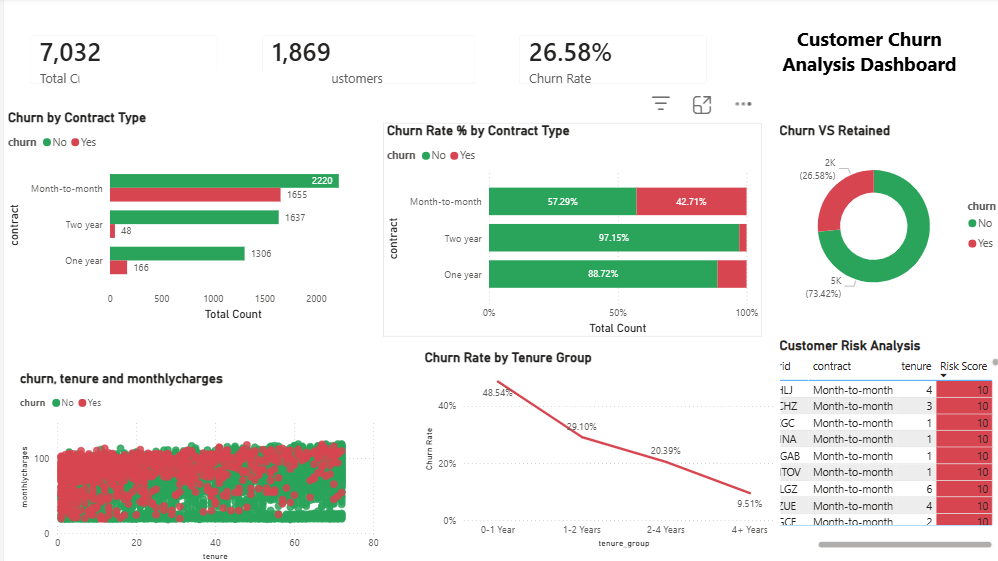

What the dashboard file says about the page in this screenshot:
{"tool":"powerbi","page":{"name":"Page 1","canvas":[1280,720],"ordinal":0},"visuals":[{"type":"cardVisual","fields":{"Data":["churn_clean.Total Customers"]},"box":[16,32,272,96],"z":0},{"type":"cardVisual","fields":{"Data":["churn_clean.Churned Customers"]},"box":[309.3,32,304,96],"z":1000},{"type":"cardVisual","fields":{"Data":["churn_clean.Churn Rate"]},"box":[634.7,32,272,96],"z":2000},{"type":"donutChart","title":"Churn VS Retained","fields":{"Category":["churn_clean.churn"],"Y":["churn_clean.Total Count"]},"box":[976,160,304,240],"z":3000},{"type":"clusteredBarChart","title":"Churn by Contract Type","fields":{"Category":["churn_clean.contract"],"Y":["churn_clean.Total Count"],"Series":["churn_clean.churn"]},"box":[0,144,464,272],"z":4000},{"type":"hundredPercentStackedBarChart","title":"Churn Rate % by Contract Type","fields":{"Category":["churn_clean.contract"],"Y":["churn_clean.Total Count"],"Series":["churn_clean.churn"]},"box":[480,160,480,272],"z":5000},{"type":"scatterChart","fields":{"Series":["churn_clean.churn"],"X":["churn_clean.tenure"],"Y":["churn_clean.monthlycharges"]},"box":[16,474,464,246],"z":6000},{"type":"lineChart","title":"Churn Rate by Tenure Group","fields":{"Category":["churn_clean.tenure_group"],"Y":["churn_clean.Churn Rate"]},"box":[528,448,464,256],"z":7000},{"type":"tableEx","title":"Customer Risk Analysis","fields":{"Values":["churn_clean.customerid","churn_clean.contract","churn_clean.tenure","churn_clean.Risk Score"]},"box":[976,432,288,272],"z":8000},{"type":"textbox","box":[960,32,272,96],"z":9000},{"type":"textbox","box":[96,96,320,48],"z":10000}]}

Visuals, with their boxes in screenshot pixels (x1, y1, x2, y2), scaled from the page's 1280x720 canvas onto the 998x561 screenshot:
cardVisual - churn_clean.Total Customers: BBox(12, 25, 225, 100)
cardVisual - churn_clean.Churned Customers: BBox(241, 25, 478, 100)
cardVisual - churn_clean.Churn Rate: BBox(495, 25, 707, 100)
"Churn VS Retained" donutChart: BBox(761, 125, 997, 312)
"Churn by Contract Type" clusteredBarChart: BBox(0, 112, 362, 324)
"Churn Rate % by Contract Type" hundredPercentStackedBarChart: BBox(374, 125, 748, 337)
scatterChart - churn_clean.churn x churn_clean.tenure: BBox(12, 369, 374, 560)
"Churn Rate by Tenure Group" lineChart: BBox(412, 349, 773, 549)
"Customer Risk Analysis" tableEx: BBox(761, 337, 986, 549)
textbox: BBox(748, 25, 961, 100)
textbox: BBox(75, 75, 324, 112)
